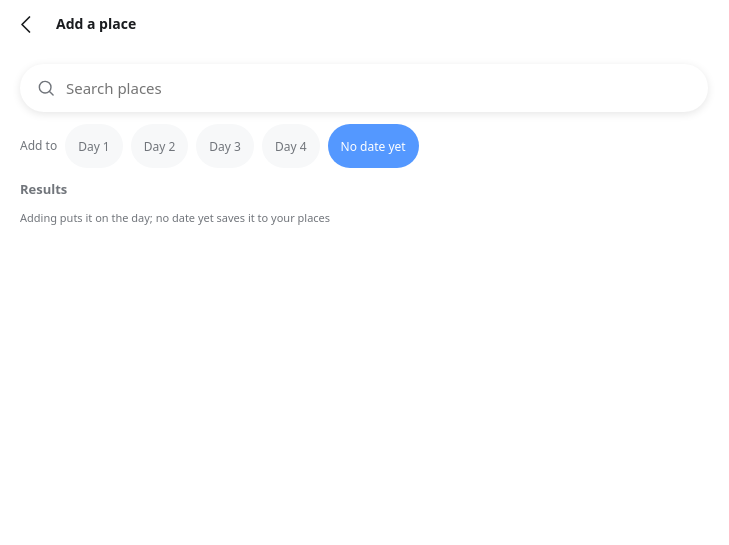
Scenario: #105 FCR-029 crowd forecast cards › reports a batch failure instead of making it look like ordinary no coverage
The width and height of the screenshot is (729, 545).
Expected: the button "Day 4" is shown, [262,124,320,168]
Type "서울" into the search field. click: (378,88)
box: [64,64,692,112]
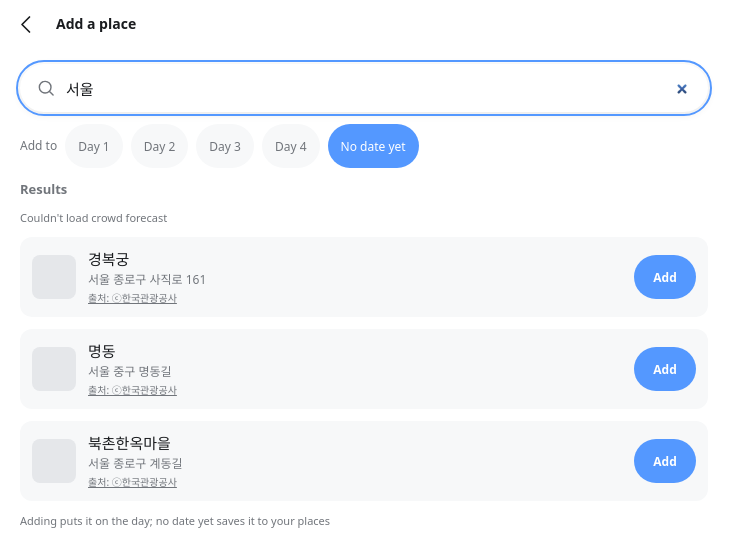
Now the text "경복궁" is shown, box [88,249,129,269]
Now the message reads "Couldn't load crowd forecast", box [20,210,167,225]
